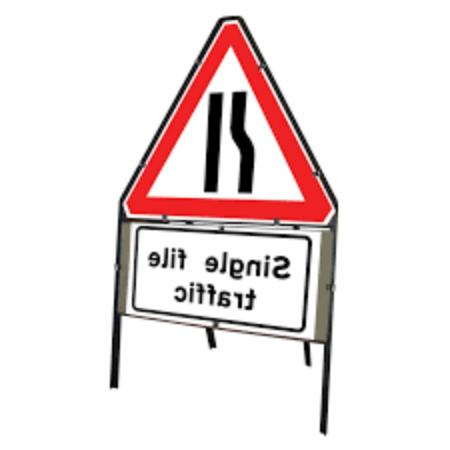narrow_road: (113, 13, 343, 226)
